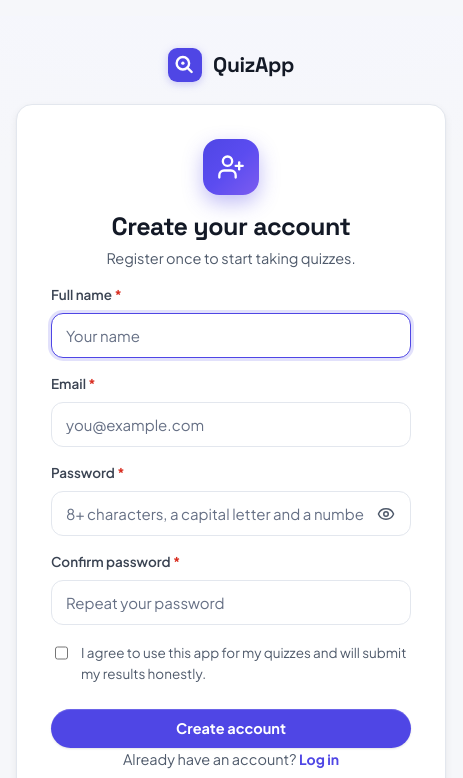
Test: RegisterPage › maps already-registered emails to a friendly message
Type "Ali B" into the field labelled "Full name *" at [231, 336], box [51,313,411,358]
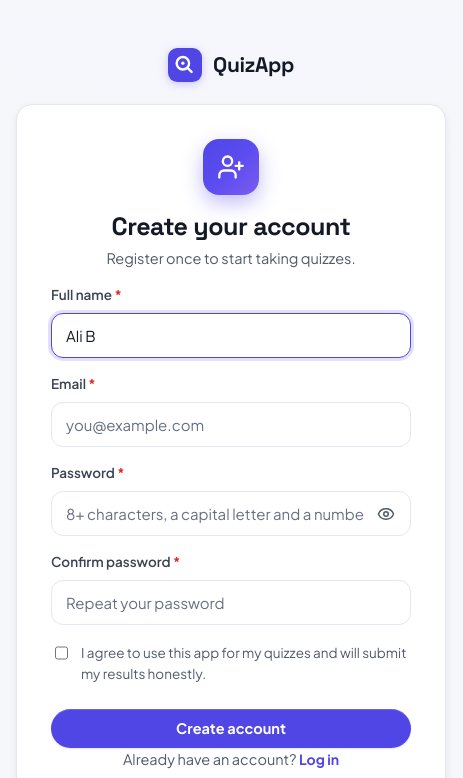
Type "a@b.com" into the field labelled "Email *" at [231, 425], box [51,402,411,447]
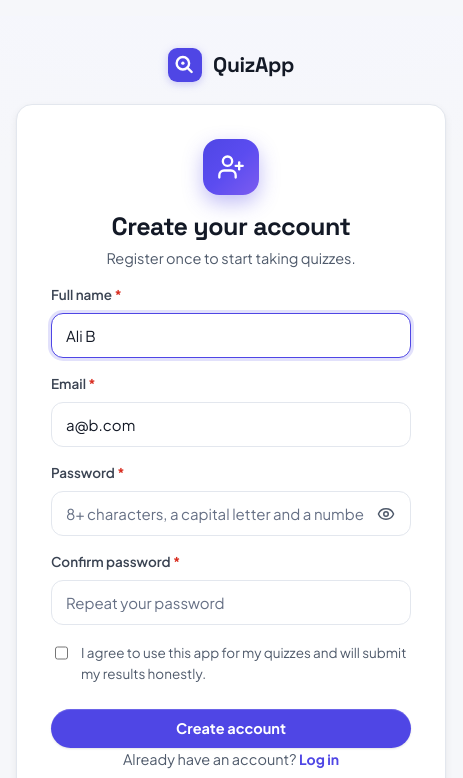
Type "Passw0rd!" into the password field labelled "Password *" at [231, 514], box [51,491,411,536]
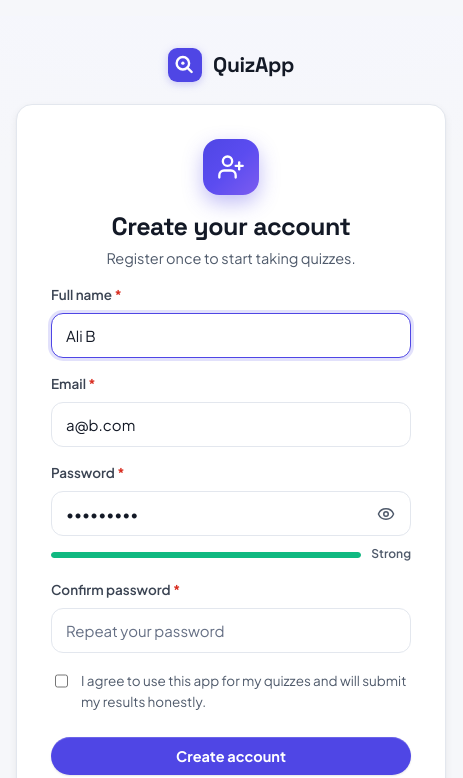
Type "Passw0rd!" into the password field labelled "Confirm password *" at [231, 630], box [51,608,411,653]
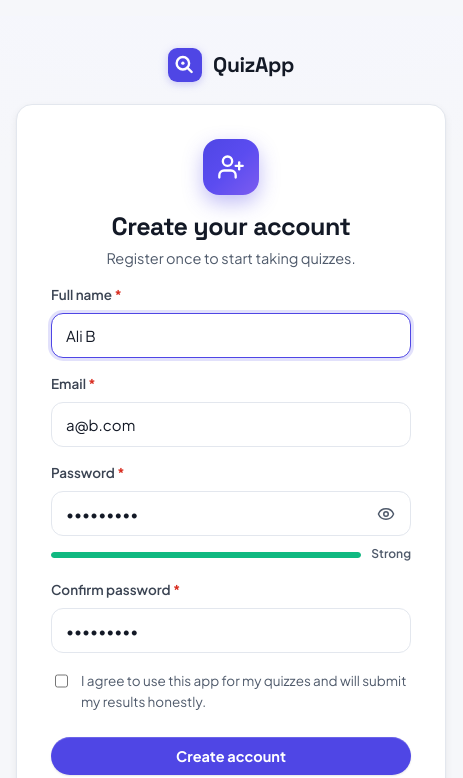
Click the checkbox labelled "I agree to use this app" at [62, 681], box [55,673,68,689]
(page scrolled)
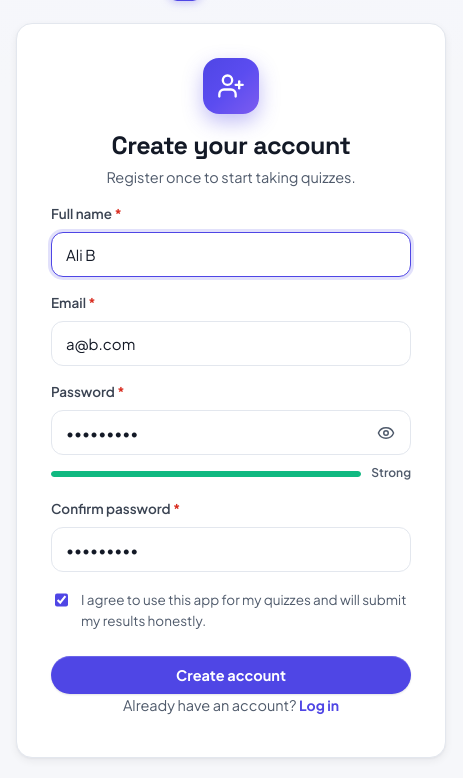
Submit the form
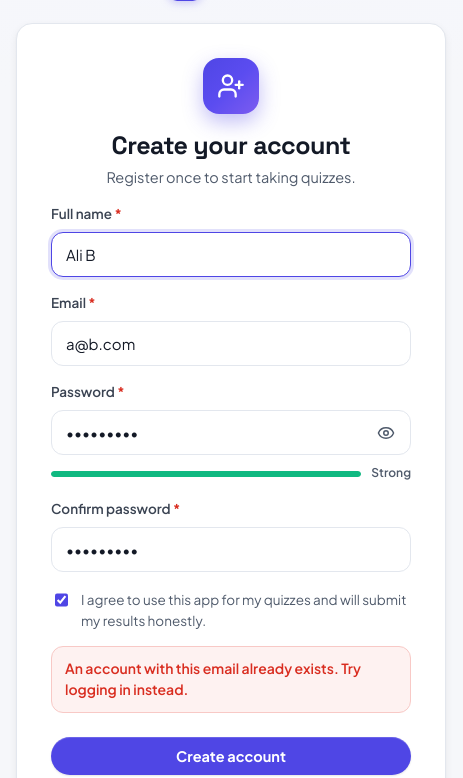
Expected: the text "An account with this email already exists. Try logging in instead." is shown, [51,646,411,713]
